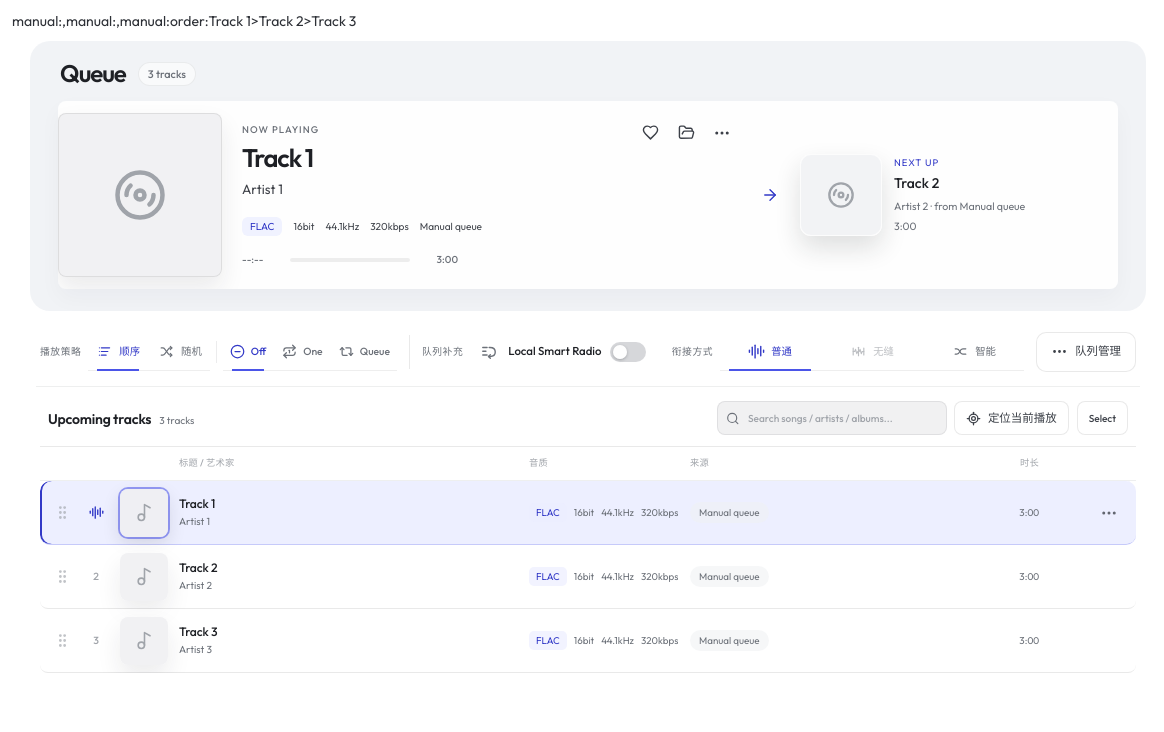
Test case: QueuePage › shows a receipt when the context menu queues a track next
Right-click the list item that starts with "Track 3": [588, 641] box [40,609,1136,673]
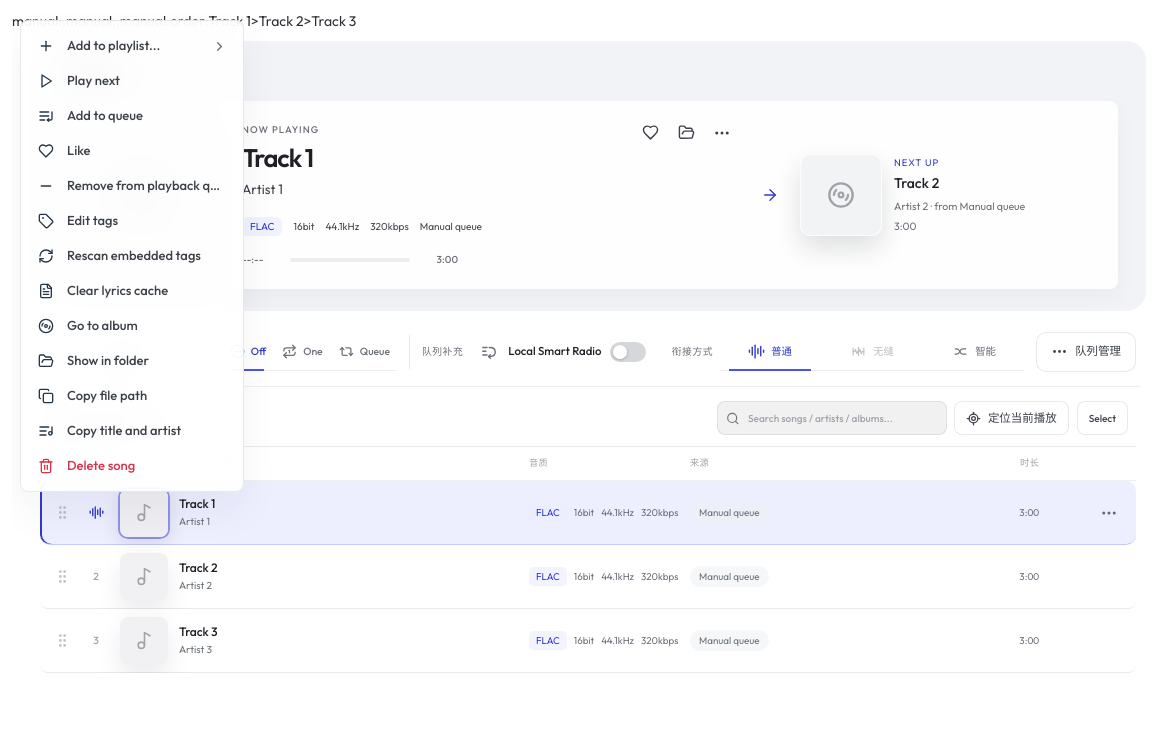
Click the menu item "Play next": [132, 81] box [29,64,235,98]
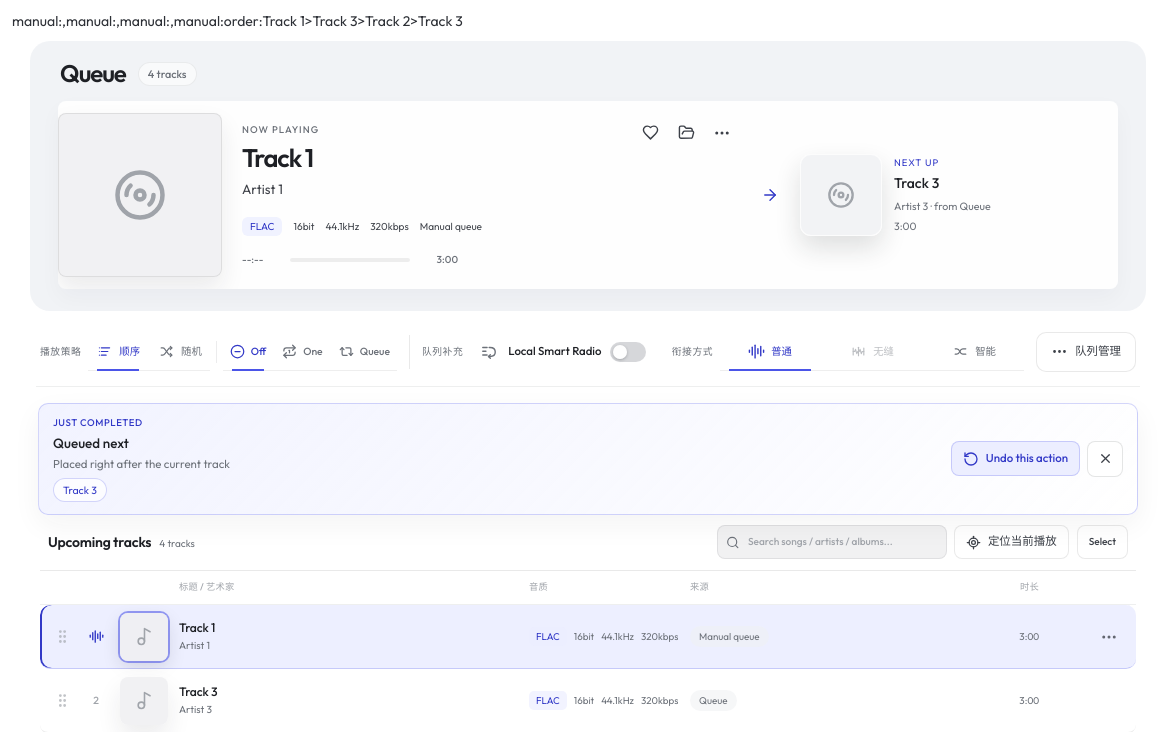
Expected: the text named "queue-order" reads "order:Track 1>Track 3>Track 2>Track 3", [224,12,463,30]
Expected: the element that starts with "Just completed" shows "Queued next", [53,435,129,451]
Expected: the element that starts with "Just completed" shows "Track 3", [63,483,97,497]
